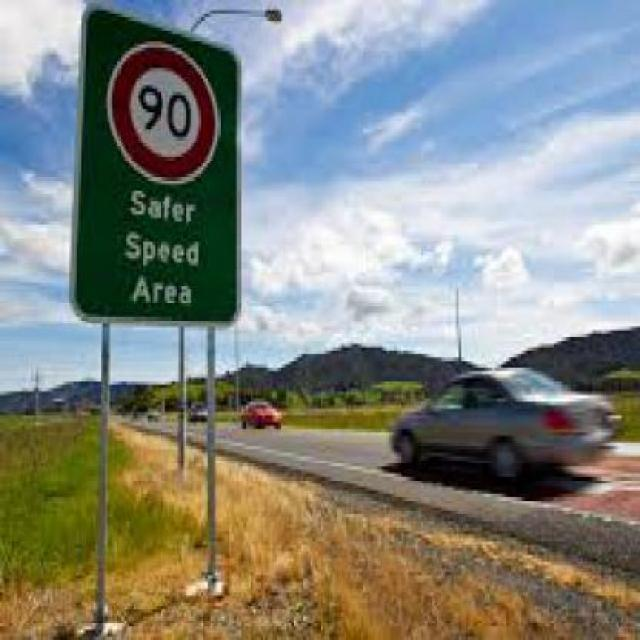Ograniczenie predkosci do 90: (110, 38, 214, 185)
